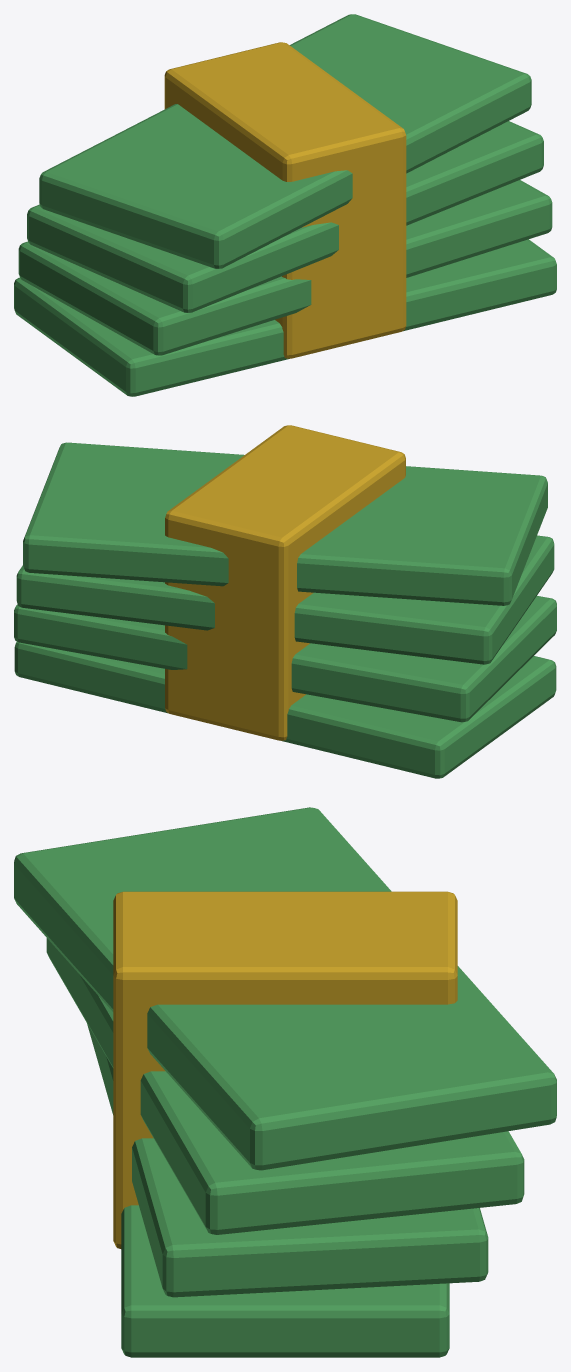
The model's file is item_cash.glb.
The picture shows the model from 3 angles, top to bottom: view 1: azimuth 30°, elevation 25°; view 2: azimuth 150°, elevation 25°; view 3: azimuth 270°, elevation 25°; orthographic projection. The views are drawn at different scales.
Parts seen in each view (by area): view 1: Note_3, Band, Note_2, Note_1, Note_0; view 2: Note_3, Band, Note_2, Note_1, Note_0; view 3: Note_3, Band, Note_2, Note_1, Note_0.
Part boxes in pixels (<box>): Note_3: <box>39,14,531,268</box>; Band: <box>164,42,406,358</box>; Note_2: <box>27,121,543,312</box>; Note_1: <box>18,180,552,355</box>; Note_0: <box>14,239,556,396</box>; Note_3: <box>23,442,547,605</box>; Band: <box>165,425,405,740</box>; Note_2: <box>16,535,554,664</box>; Note_1: <box>14,596,556,722</box>; Note_0: <box>14,641,556,778</box>; Note_3: <box>14,807,556,1170</box>; Band: <box>113,891,457,1248</box>; Note_2: <box>46,938,524,1234</box>; Note_1: <box>87,1023,488,1297</box>; Note_0: <box>121,1205,449,1357</box>.
Size of what is drawn, in the model's own units: 0.4593 by 0.1925 by 0.3309.
